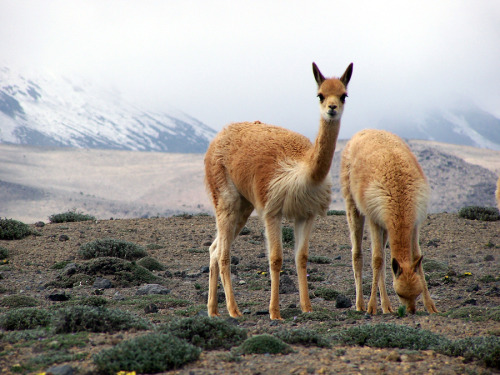eye: (338, 91, 352, 106), (320, 89, 330, 106)
mouth: (324, 108, 340, 123)
